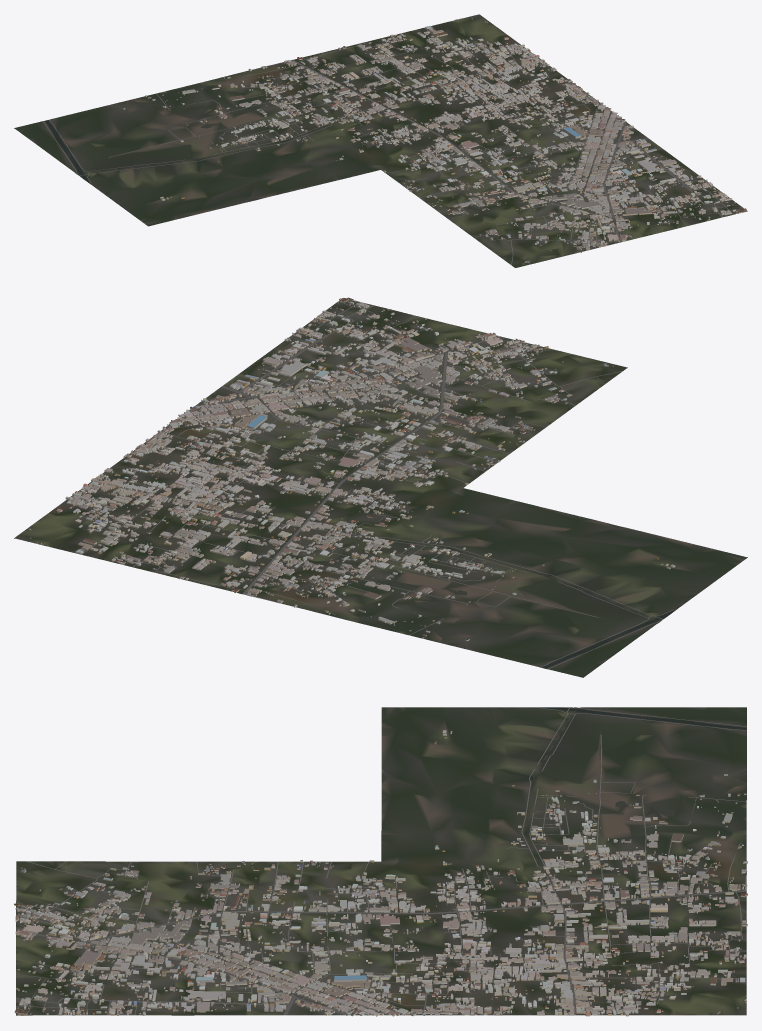
3 views of the same model, one above another, from view 1: azimuth 30°, elevation 25°; view 2: azimuth 150°, elevation 25°; view 3: azimuth 270°, elevation 25° (orthographic). The views are drawn at different scales.
Parts seen in each view (by area): view 1: ground, buildings, roads, water; view 2: ground, buildings, roads, water; view 3: ground, buildings, roads, water.
Boxes of the visible parts, x1=… form: ground: x1=14, y1=14, x2=747, y2=267; buildings: x1=122, y1=18, x2=746, y2=264; roads: x1=43, y1=27, x2=745, y2=265; water: x1=45, y1=108, x2=308, y2=201; ground: x1=14, y1=299, x2=747, y2=677; buildings: x1=29, y1=297, x2=675, y2=641; roads: x1=71, y1=301, x2=673, y2=669; water: x1=415, y1=522, x2=675, y2=668; ground: x1=16, y1=707, x2=746, y2=1015; buildings: x1=14, y1=730, x2=747, y2=1016; roads: x1=16, y1=707, x2=746, y2=1015; water: x1=382, y1=707, x2=746, y2=835.
Size of the model in its own units: 2814 by 19.07 by 2814.
